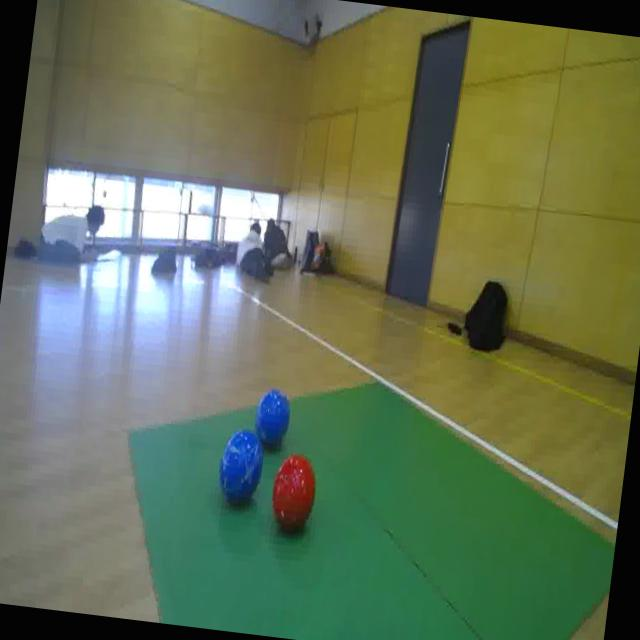blue_ball: (214, 424, 266, 512), (252, 388, 294, 452)
red_ball: (266, 448, 320, 539)
